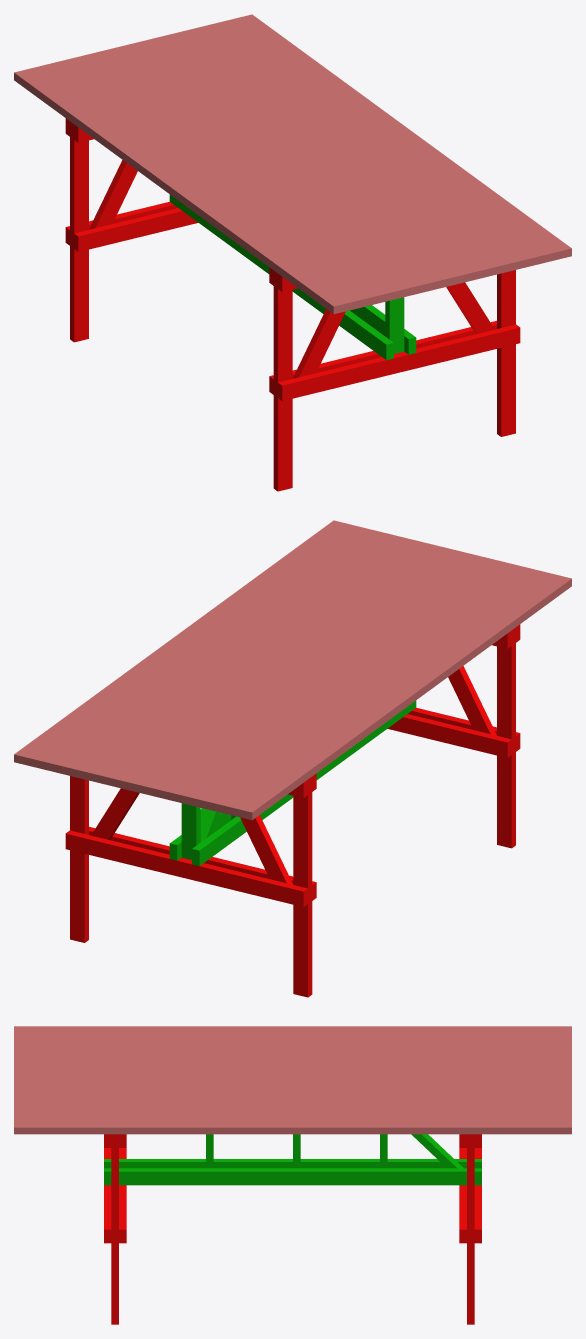
Rendered from result.glb.
3 renders of one model, top to bottom at view 1: azimuth 30°, elevation 25°; view 2: azimuth 150°, elevation 25°; view 3: azimuth 270°, elevation 25°, orthographic. The views are drawn at different scales.
Visible parts, largest first — view 1: d06f289d-c7f0-4e84-965e-66e01b933bf5__Box, 5caeff46-faaa-4fa7-9f43-5b44eb66d203__undefined, 764c597f-d7fb-4e36-bfb4-e4ab5a5d65cb__undefined, e57e04e5-927e-4b12-b5d1-b07958219668__undefined, 9aeeeb0f-bbbc-4f98-a163-39870aabd4e9__undefined, dd3db331-42bc-4b0a-912f-00b0b321ac43__undefined, 878afea6-ad52-461a-974a-bd2052ff7a67__undefined, 719db1ab-07fb-4a8d-85a4-f793993de0fd__undefined, 99d831aa-f49a-4866-bff8-677385f24417__undefined, 74494b44-a99f-469c-a03e-32bc697fb040__undefined, 26a623ad-9778-431d-8c06-bd8213c1608b__undefined, d87d9c73-02dc-48af-b39d-b4238363cafb__undefined (+17 smaller); view 2: d06f289d-c7f0-4e84-965e-66e01b933bf5__Box, 5caeff46-faaa-4fa7-9f43-5b44eb66d203__undefined, 764c597f-d7fb-4e36-bfb4-e4ab5a5d65cb__undefined, e57e04e5-927e-4b12-b5d1-b07958219668__undefined, 9aeeeb0f-bbbc-4f98-a163-39870aabd4e9__undefined, dd3db331-42bc-4b0a-912f-00b0b321ac43__undefined, 878afea6-ad52-461a-974a-bd2052ff7a67__undefined, 719db1ab-07fb-4a8d-85a4-f793993de0fd__undefined, 99d831aa-f49a-4866-bff8-677385f24417__undefined, 74494b44-a99f-469c-a03e-32bc697fb040__undefined, 26a623ad-9778-431d-8c06-bd8213c1608b__undefined, d87d9c73-02dc-48af-b39d-b4238363cafb__undefined (+16 smaller); view 3: 26a623ad-9778-431d-8c06-bd8213c1608b__undefined, 9d92e3b4-77e6-4048-a1b2-629ea4aa117a__strutH, d06f289d-c7f0-4e84-965e-66e01b933bf5__Box, 5caeff46-faaa-4fa7-9f43-5b44eb66d203__undefined, 878afea6-ad52-461a-974a-bd2052ff7a67__undefined, 9aeeeb0f-bbbc-4f98-a163-39870aabd4e9__undefined, dd3db331-42bc-4b0a-912f-00b0b321ac43__undefined, 841f29ad-afe7-455f-8f85-9824511e3093__undefined, d87d9c73-02dc-48af-b39d-b4238363cafb__undefined, 9a3f0b37-476a-4143-831c-1e7f408b7b7a__undefined, 322be8e9-0f40-4a44-8d09-1882d98bfe86__undefined, e57e04e5-927e-4b12-b5d1-b07958219668__undefined (+13 smaller).
Boxes of the visible parts, x1=… form: d06f289d-c7f0-4e84-965e-66e01b933bf5__Box: x1=14, y1=69, x2=348, y2=314; 5caeff46-faaa-4fa7-9f43-5b44eb66d203__undefined: x1=29, y1=65, x2=363, y2=310; 764c597f-d7fb-4e36-bfb4-e4ab5a5d65cb__undefined: x1=193, y1=25, x2=527, y2=270; e57e04e5-927e-4b12-b5d1-b07958219668__undefined: x1=148, y1=36, x2=482, y2=281; 9aeeeb0f-bbbc-4f98-a163-39870aabd4e9__undefined: x1=59, y1=58, x2=393, y2=303; dd3db331-42bc-4b0a-912f-00b0b321ac43__undefined: x1=74, y1=54, x2=408, y2=299; 878afea6-ad52-461a-974a-bd2052ff7a67__undefined: x1=44, y1=61, x2=378, y2=306; 719db1ab-07fb-4a8d-85a4-f793993de0fd__undefined: x1=163, y1=32, x2=497, y2=277; 99d831aa-f49a-4866-bff8-677385f24417__undefined: x1=208, y1=21, x2=542, y2=266; 74494b44-a99f-469c-a03e-32bc697fb040__undefined: x1=178, y1=29, x2=512, y2=274; 26a623ad-9778-431d-8c06-bd8213c1608b__undefined: x1=238, y1=14, x2=571, y2=259; d87d9c73-02dc-48af-b39d-b4238363cafb__undefined: x1=103, y1=47, x2=437, y2=292; d06f289d-c7f0-4e84-965e-66e01b933bf5__Box: x1=237, y1=575, x2=571, y2=820; 5caeff46-faaa-4fa7-9f43-5b44eb66d203__undefined: x1=222, y1=571, x2=556, y2=816; 764c597f-d7fb-4e36-bfb4-e4ab5a5d65cb__undefined: x1=58, y1=531, x2=392, y2=776; e57e04e5-927e-4b12-b5d1-b07958219668__undefined: x1=103, y1=542, x2=437, y2=787; 9aeeeb0f-bbbc-4f98-a163-39870aabd4e9__undefined: x1=192, y1=564, x2=526, y2=809; dd3db331-42bc-4b0a-912f-00b0b321ac43__undefined: x1=177, y1=560, x2=511, y2=805; 878afea6-ad52-461a-974a-bd2052ff7a67__undefined: x1=207, y1=567, x2=541, y2=812; 719db1ab-07fb-4a8d-85a4-f793993de0fd__undefined: x1=88, y1=538, x2=422, y2=783; 99d831aa-f49a-4866-bff8-677385f24417__undefined: x1=43, y1=527, x2=377, y2=772; 74494b44-a99f-469c-a03e-32bc697fb040__undefined: x1=73, y1=535, x2=407, y2=780; 26a623ad-9778-431d-8c06-bd8213c1608b__undefined: x1=14, y1=520, x2=347, y2=765; d87d9c73-02dc-48af-b39d-b4238363cafb__undefined: x1=148, y1=553, x2=482, y2=798; 26a623ad-9778-431d-8c06-bd8213c1608b__undefined: x1=14, y1=1121, x2=571, y2=1134; 9d92e3b4-77e6-4048-a1b2-629ea4aa117a__strutH: x1=104, y1=1168, x2=481, y2=1185; d06f289d-c7f0-4e84-965e-66e01b933bf5__Box: x1=14, y1=1026, x2=571, y2=1032; 5caeff46-faaa-4fa7-9f43-5b44eb66d203__undefined: x1=14, y1=1032, x2=571, y2=1038; 878afea6-ad52-461a-974a-bd2052ff7a67__undefined: x1=14, y1=1039, x2=571, y2=1045; 9aeeeb0f-bbbc-4f98-a163-39870aabd4e9__undefined: x1=14, y1=1045, x2=571, y2=1051; dd3db331-42bc-4b0a-912f-00b0b321ac43__undefined: x1=14, y1=1051, x2=571, y2=1057; 841f29ad-afe7-455f-8f85-9824511e3093__undefined: x1=14, y1=1058, x2=571, y2=1064; d87d9c73-02dc-48af-b39d-b4238363cafb__undefined: x1=14, y1=1064, x2=571, y2=1070; 9a3f0b37-476a-4143-831c-1e7f408b7b7a__undefined: x1=14, y1=1070, x2=571, y2=1076; 322be8e9-0f40-4a44-8d09-1882d98bfe86__undefined: x1=14, y1=1077, x2=571, y2=1083; e57e04e5-927e-4b12-b5d1-b07958219668__undefined: x1=14, y1=1083, x2=571, y2=1089.
Bounding box in the file's own units: 800 × 725 × 1860.
